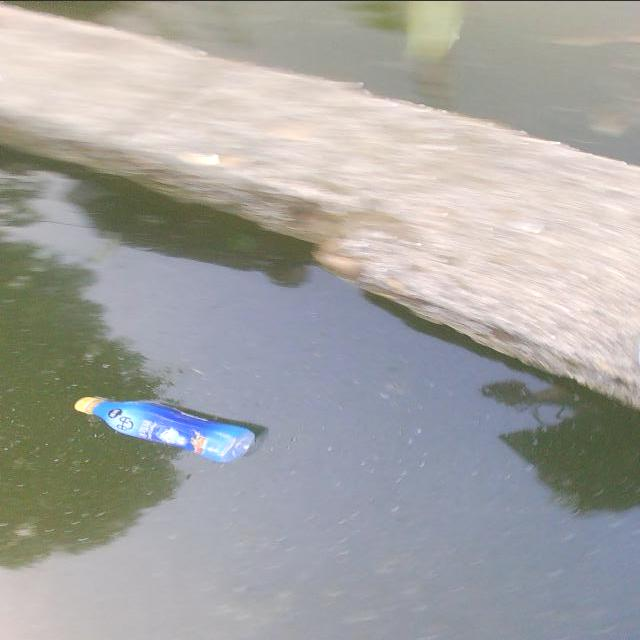bottle: (59, 383, 274, 480)
